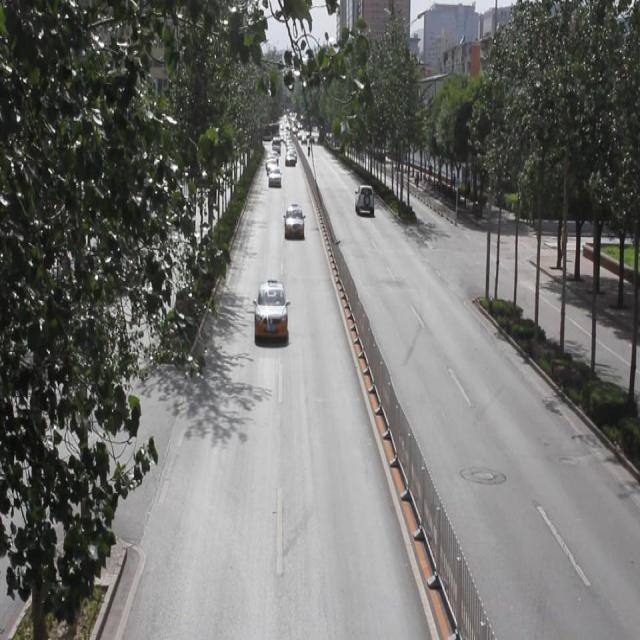car: (255, 280, 287, 345), (283, 206, 304, 242), (354, 185, 372, 214)
